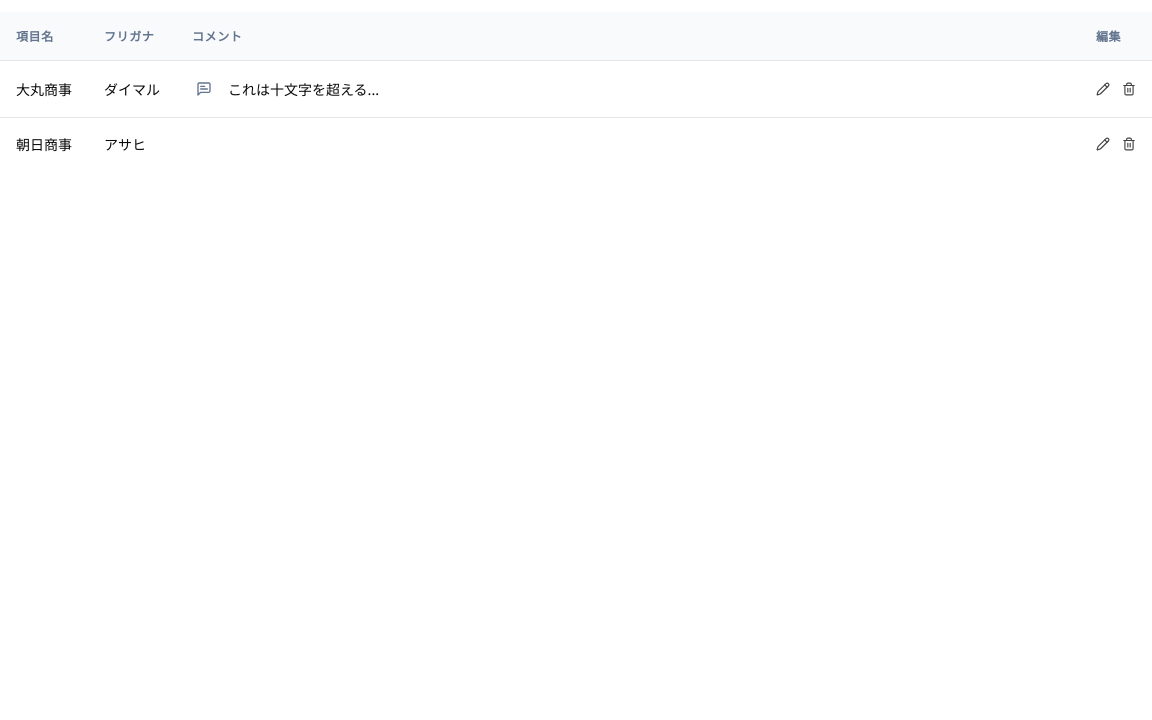
MasterTable の編集 › 編集アイコンを押すとその行の値が入ったモーダルが開く
This screenshot has width=1152, height=720.
Click the button named "編集" in the row of "朝日商事" at (1103, 144), box [1096,136,1110,150]
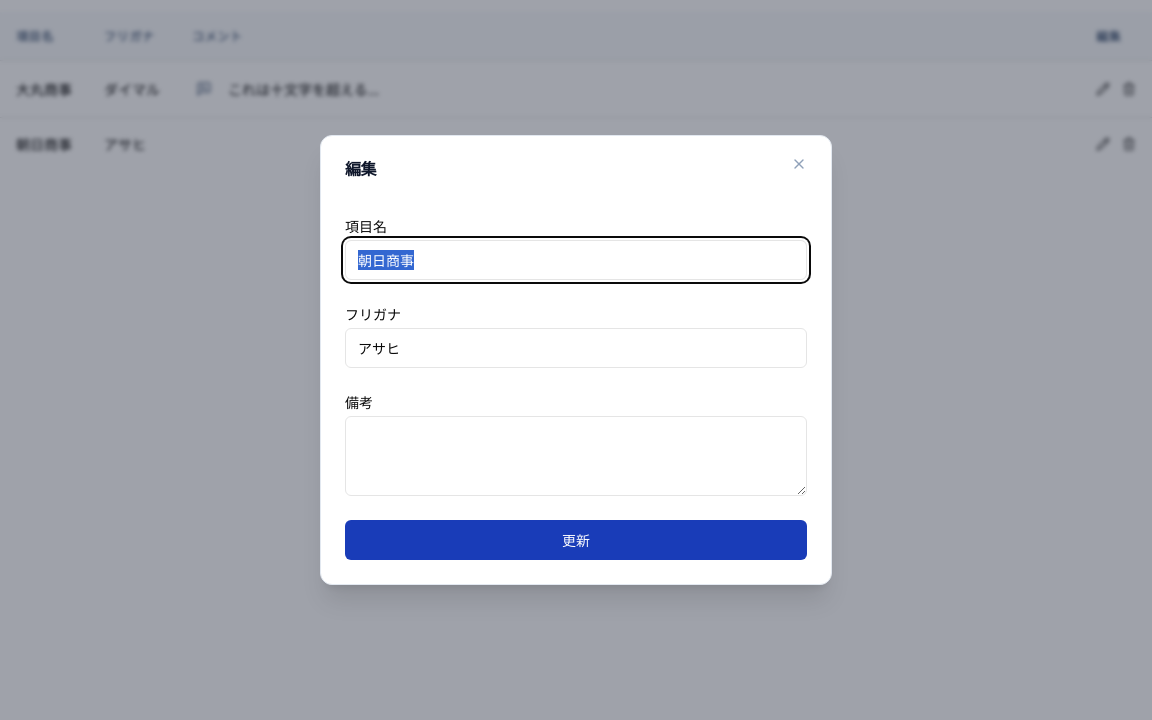
expect the field labelled "項目名" holds "朝日商事": met, box [345,240,807,280]
